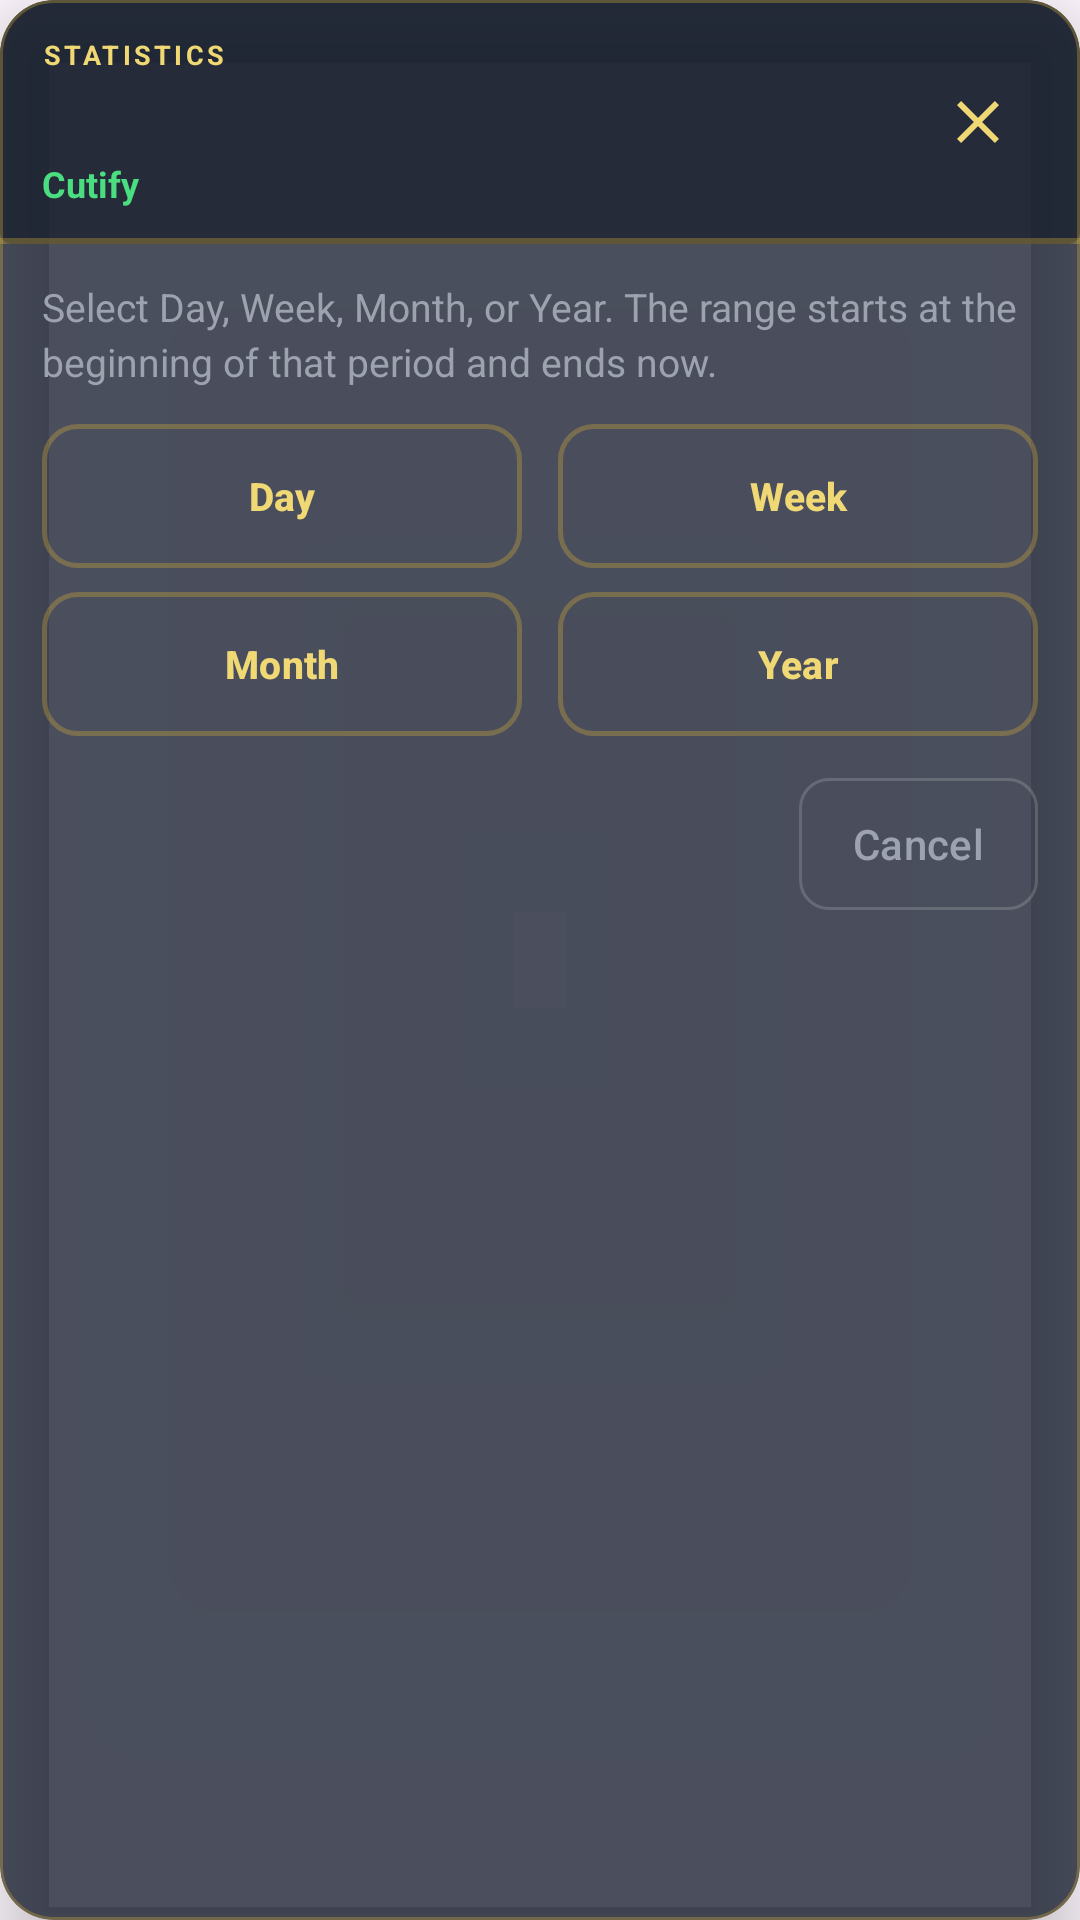

Named icons in this screenshot (1080x1920) and their bounding boxes, bbox=(x1, y1, x2, y2):
Close: bbox=(957, 101, 999, 143)
